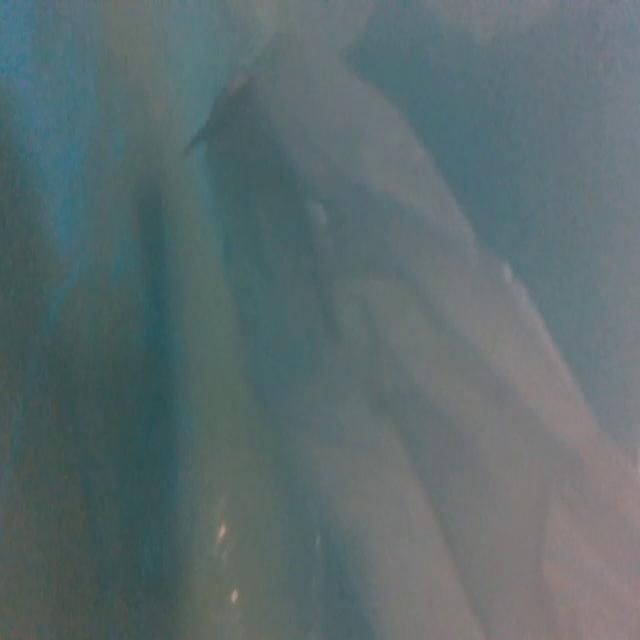plastic bags: (185, 26, 640, 640)
